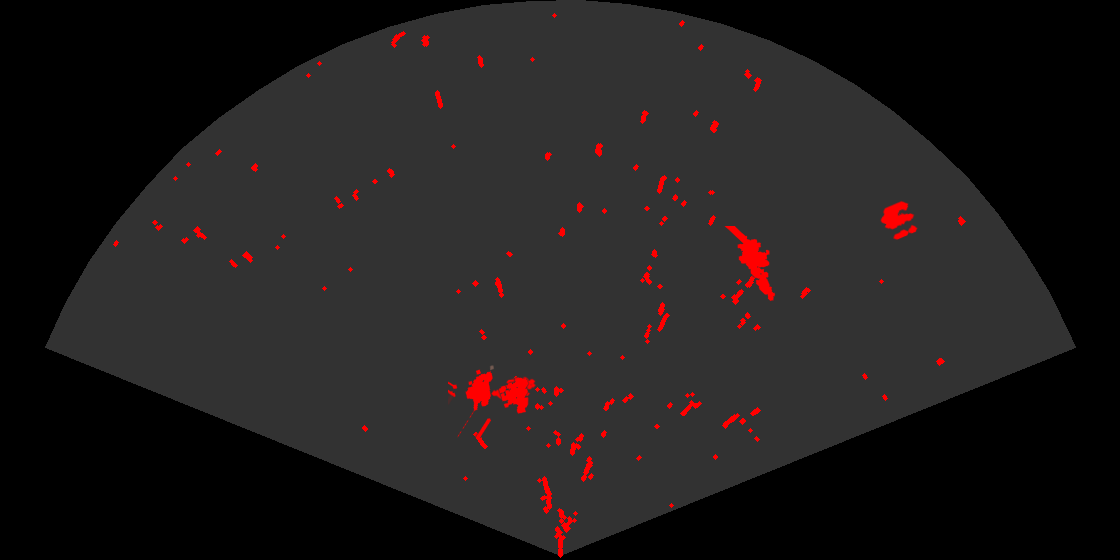AUV: (489, 375, 538, 403)
ball: (879, 199, 919, 241)
cage: (448, 364, 530, 438)
frogman: (723, 226, 777, 303)
